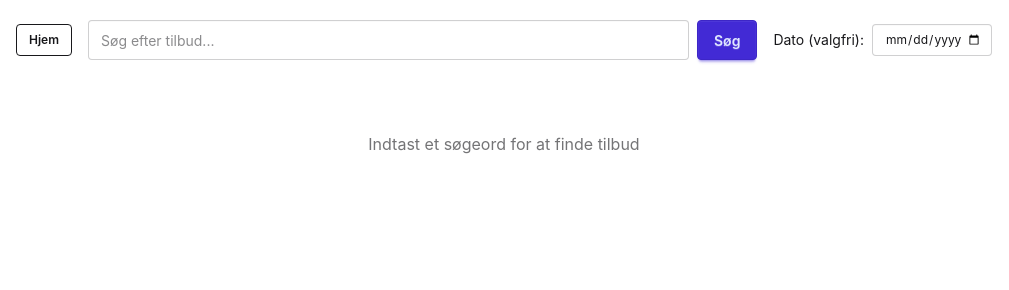
Scenario: SearchPage › re-includes all chains when Vælg alle is clicked
Type "test" into the field with placeholder "Søg efter tilbud..." at (388, 40), box top-left (88, 20), bottom-right (689, 60)
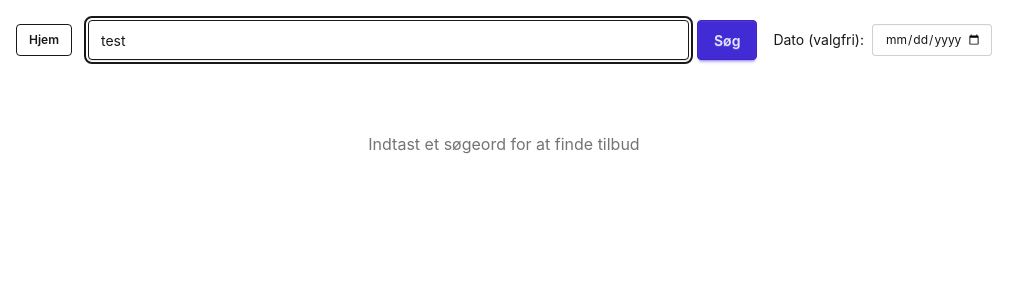
Click the button "Søg" at (727, 40), box top-left (697, 20), bottom-right (757, 60)
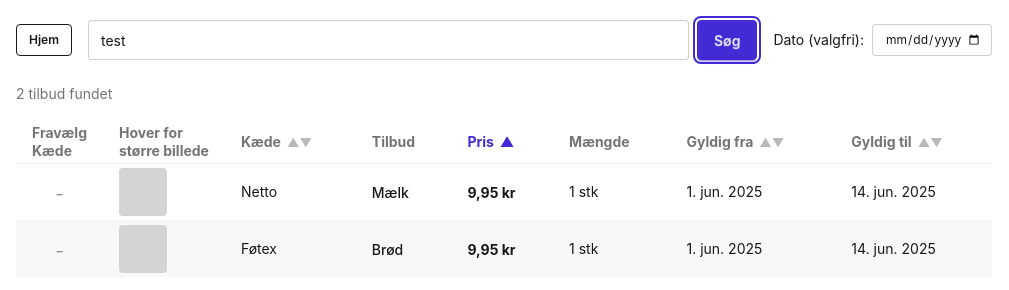
Result: the text "Mælk" is shown at top-left (372, 184), bottom-right (409, 200)
Click the button titled "Skjul Netto" in the row of "Netto" at (60, 194), box top-left (50, 187), bottom-right (69, 201)
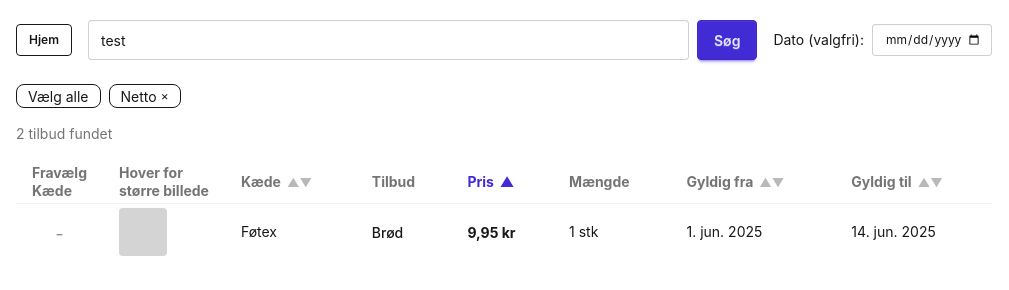
Result: the text "Mælk" is gone
Click the text "Vælg alle" at (58, 96), box top-left (16, 84), bottom-right (100, 108)
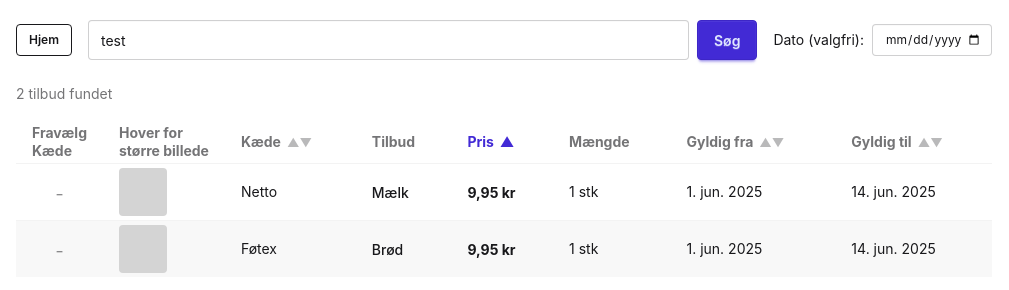
Result: the text "Brød" is shown at top-left (372, 240), bottom-right (403, 258)
Result: the text "Mælk" is shown at top-left (372, 184), bottom-right (409, 200)
